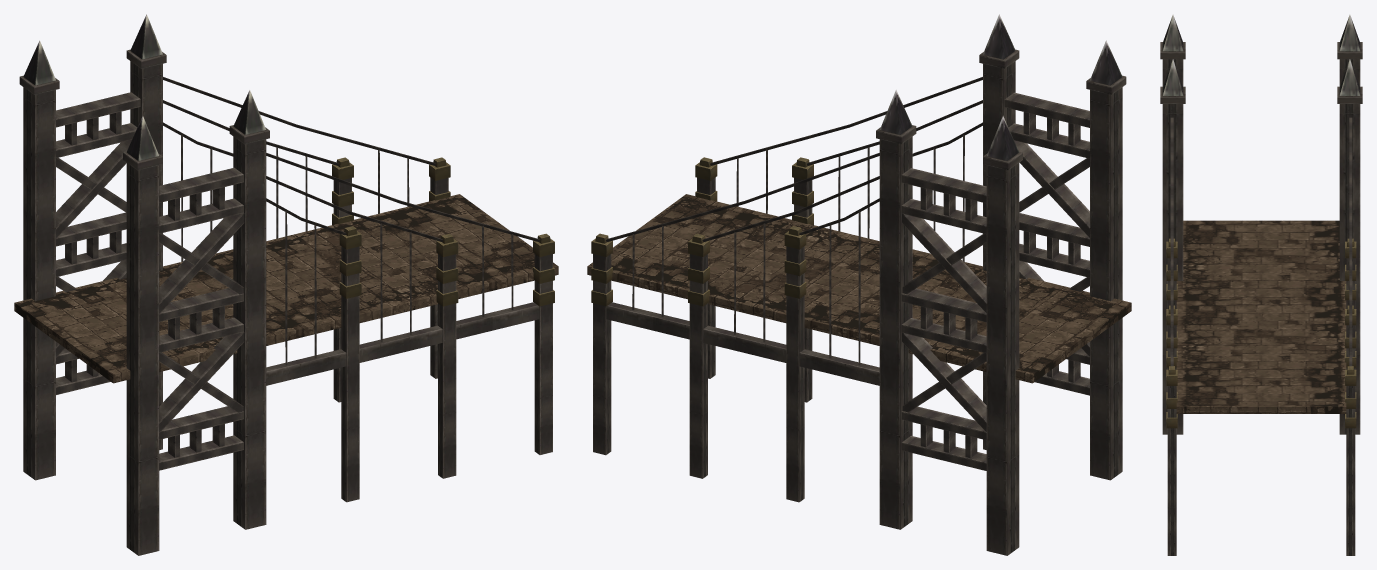
Rendered from Battle04_Bridgei_02.FBX.
The picture shows the model from 3 angles, left to right: view 1: azimuth 30°, elevation 25°; view 2: azimuth 150°, elevation 25°; view 3: azimuth 270°, elevation 25°; orthographic projection. The views are drawn at different scales.
Parts seen in each view (by area): view 1: Battle04_Bridgei_02_02, Battle04_Bridgei_02_01, Battle04_Bridgei_02_03; view 2: Battle04_Bridgei_02_02, Battle04_Bridgei_02_01, Battle04_Bridgei_02_03; view 3: Battle04_Bridgei_02_01, Battle04_Bridgei_02_02, Battle04_Bridgei_02_03.
Boxes of the visible parts, <box> form: Battle04_Bridgei_02_02: <box>19,49,552,555</box>; Battle04_Bridgei_02_01: <box>14,194,558,383</box>; Battle04_Bridgei_02_03: <box>23,14,554,306</box>; Battle04_Bridgei_02_02: <box>593,49,1126,555</box>; Battle04_Bridgei_02_01: <box>587,194,1131,383</box>; Battle04_Bridgei_02_03: <box>591,14,1122,306</box>; Battle04_Bridgei_02_01: <box>1176,220,1346,413</box>; Battle04_Bridgei_02_02: <box>1160,42,1362,555</box>; Battle04_Bridgei_02_03: <box>1162,14,1360,428</box>.
Size of the model in its own units: 41.66 by 38.76 by 19.1.
